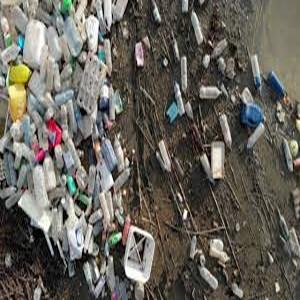Plastic: (195, 269, 221, 292), (197, 84, 222, 101)
